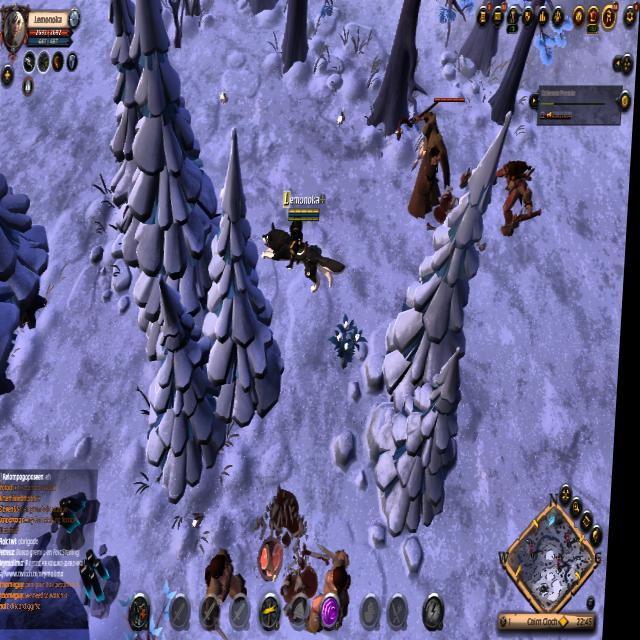fiber tier 4: (330, 313, 372, 375)
